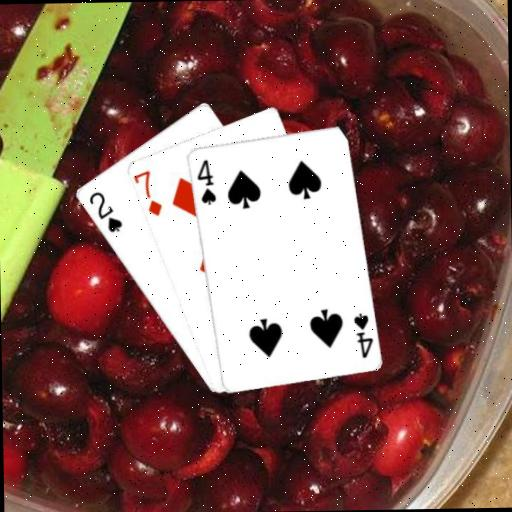2S: (85, 188, 124, 235)
4S: (193, 156, 217, 206), (351, 310, 375, 360)
7D: (132, 167, 164, 219)
